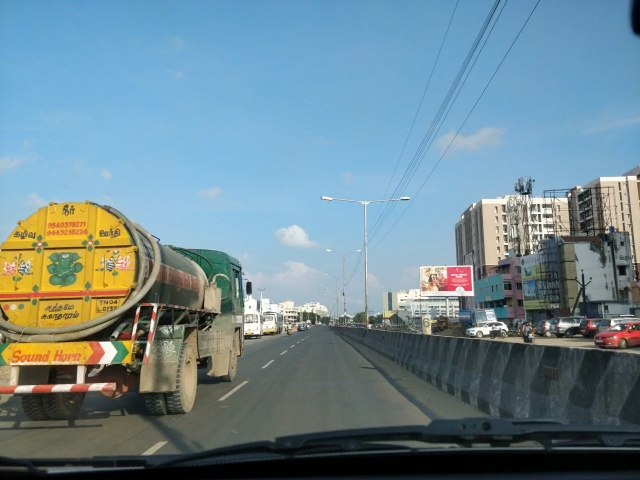bus: (263, 311, 277, 336)
motorbike: (518, 319, 534, 347), (284, 319, 296, 343)
truck: (0, 197, 257, 423)
